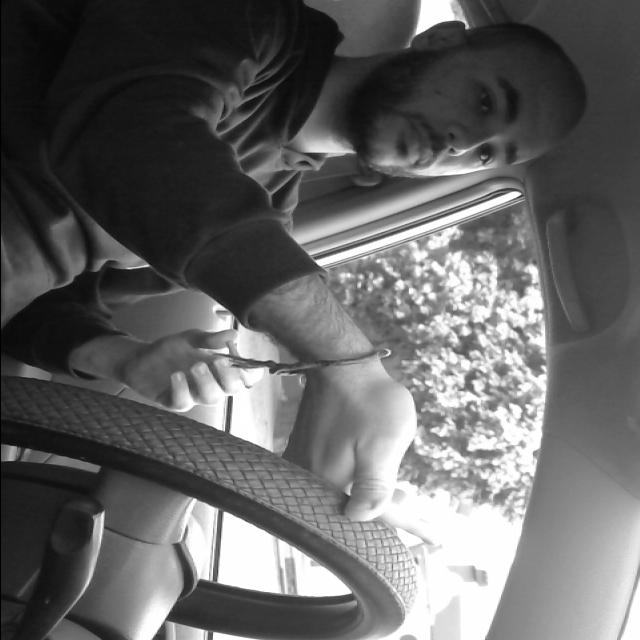smoking: (219, 337, 255, 391)
